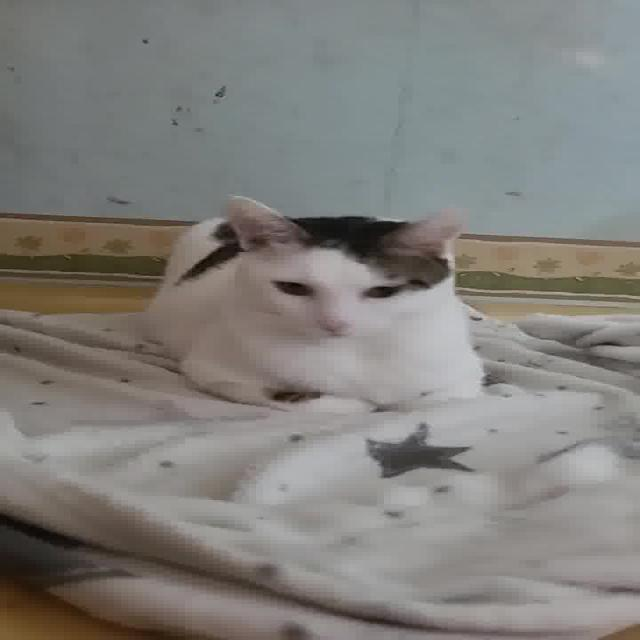cat: (137, 188, 503, 418)
